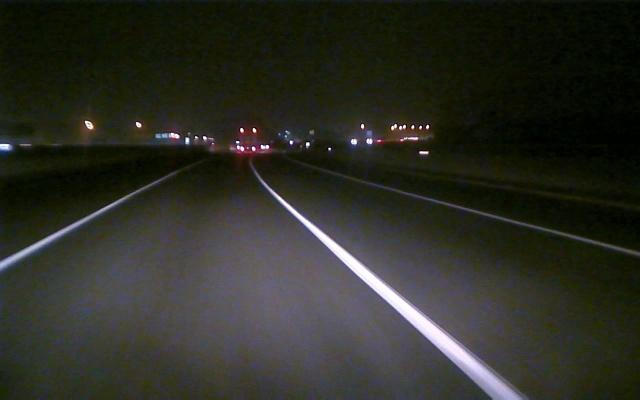lane: (260, 181, 530, 398), (363, 181, 640, 258), (0, 182, 159, 274)
